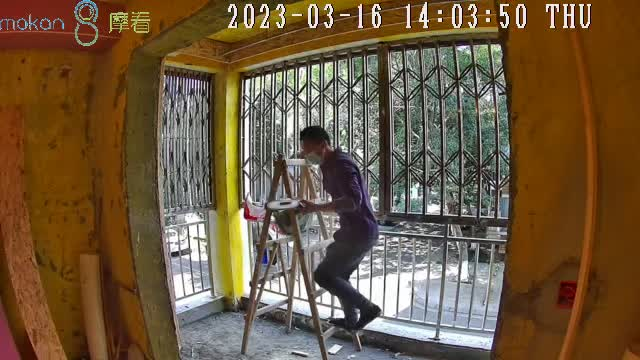people: (299, 126, 381, 335)
window: (159, 43, 517, 339)
